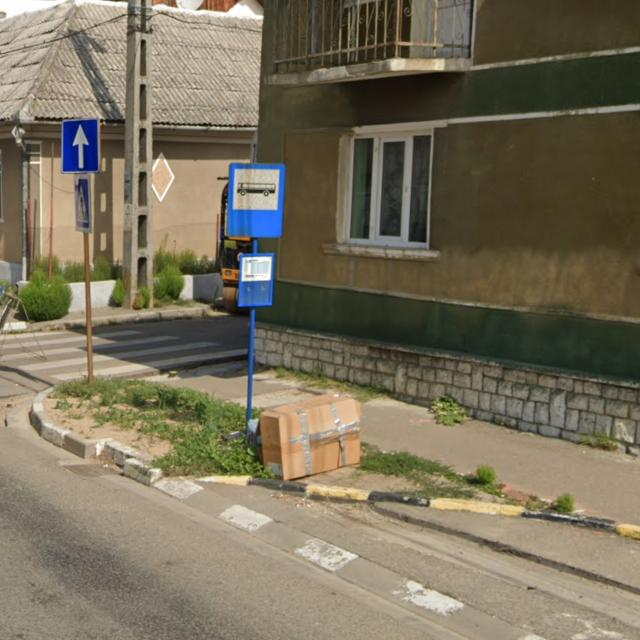info_bus_station: (228, 163, 285, 238)
info_one_way_traffic: (61, 118, 100, 172)
